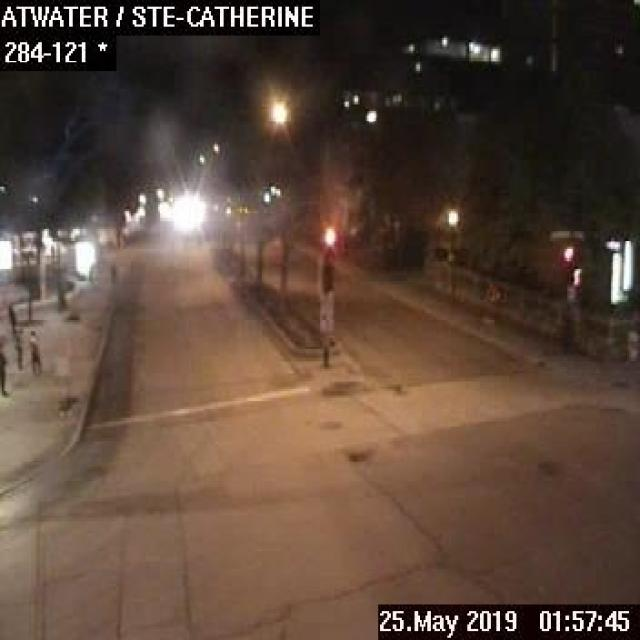pedestrian: (27, 328, 41, 373), (12, 324, 23, 370), (0, 351, 7, 395)
